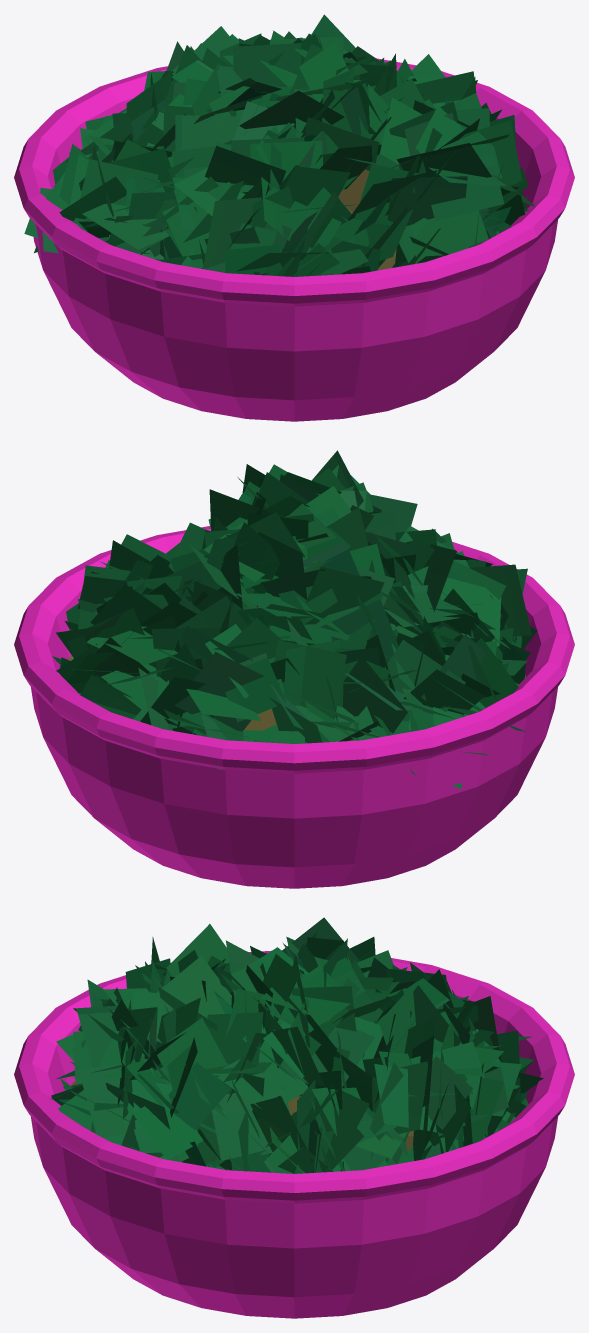
File: FlowerPot.fbx
The picture shows the model from 3 angles, top to bottom: view 1: azimuth 30°, elevation 25°; view 2: azimuth 150°, elevation 25°; view 3: azimuth 270°, elevation 25°; orthographic projection.
Visible parts, largest first — view 1: SM_Backhill_FlowerPot_01.mo; view 2: SM_Backhill_FlowerPot_01.mo; view 3: SM_Backhill_FlowerPot_01.mo.
Part boxes in pixels (bbox=[...]): SM_Backhill_FlowerPot_01.mo: bbox=[14, 14, 574, 421]; SM_Backhill_FlowerPot_01.mo: bbox=[14, 450, 574, 888]; SM_Backhill_FlowerPot_01.mo: bbox=[14, 917, 574, 1318].
Size of the model in its own units: 260 by 162 by 260.
